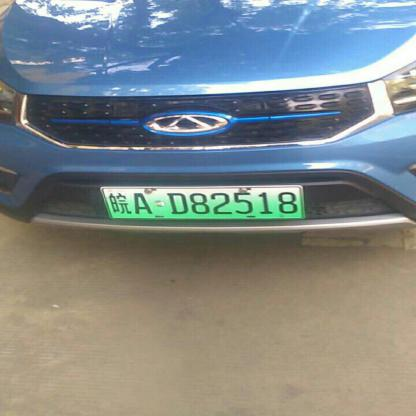lp: (103, 186, 304, 218)
